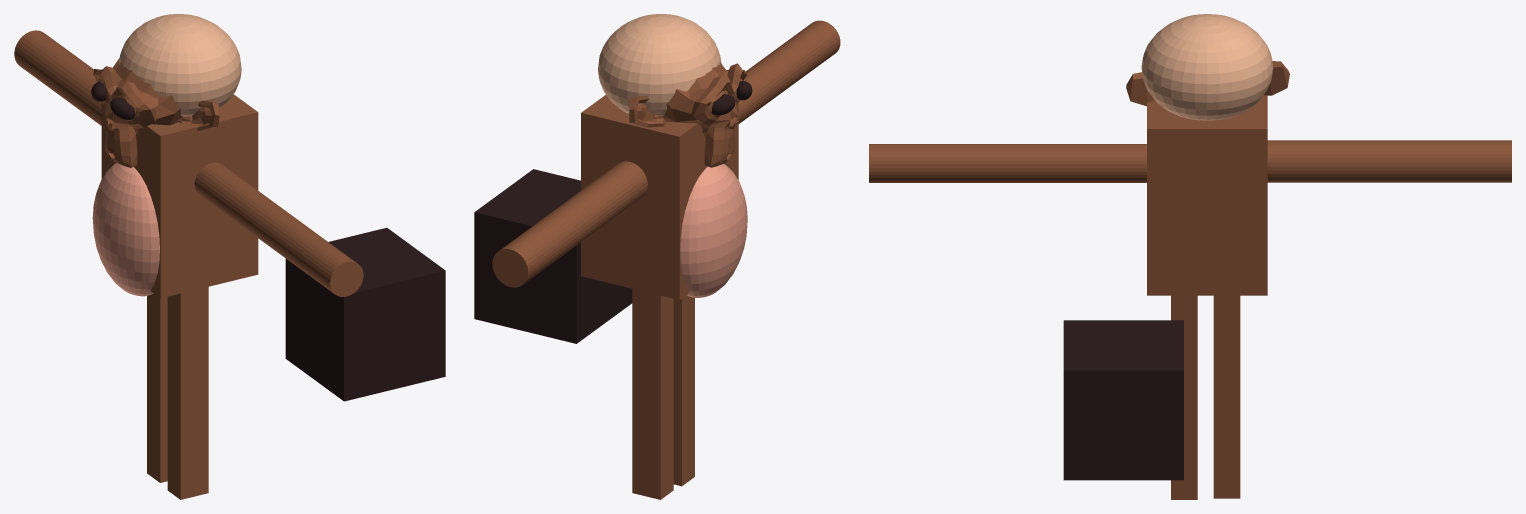
The model's file is monkey.glb.
3 renders of one model, left to right at view 1: azimuth 30°, elevation 25°; view 2: azimuth 150°, elevation 25°; view 3: azimuth 270°, elevation 25°, orthographic. The views are drawn at different scales.
Parts seen in each view (by area): view 1: Cube, Куб, Куб.001, Сфера, Циліндр.001, Сфера.001, Сюзанна, Циліндр, Куб.002; view 2: Куб, Cube, Сфера, Куб.002, Циліндр, Сфера.001, Сюзанна, Циліндр.001, Куб.001; view 3: Куб, Cube, Сфера, Циліндр.001, Циліндр, Куб.002, Куб.001, Сюзанна.
Boxes of the visible parts, x1,y1,x2,y2 form: Cube: (285, 227, 445, 401); Куб: (101, 94, 258, 298); Куб.001: (167, 287, 208, 499); Сфера: (119, 14, 241, 116); Циліндр.001: (194, 162, 363, 296); Сфера.001: (92, 163, 159, 296); Сюзанна: (93, 58, 219, 167); Циліндр: (14, 30, 101, 125); Куб.002: (147, 293, 167, 482); Куб: (581, 95, 738, 299); Cube: (474, 169, 632, 343); Сфера: (598, 14, 721, 115); Куб.002: (632, 289, 673, 499); Циліндр: (492, 161, 647, 287); Сфера.001: (680, 164, 747, 297); Сюзанна: (629, 62, 746, 167); Циліндр.001: (738, 20, 840, 123); Куб.001: (673, 295, 694, 486); Куб: (1147, 95, 1267, 295); Cube: (1063, 320, 1183, 480); Сфера: (1141, 14, 1273, 120); Циліндр.001: (869, 144, 1146, 182); Циліндр: (1267, 140, 1511, 182); Куб.002: (1213, 295, 1240, 498); Куб.001: (1171, 295, 1197, 499); Сюзанна: (1126, 61, 1289, 106).
Size of the model in its own units: 5.43 by 8.69 by 10.68.
